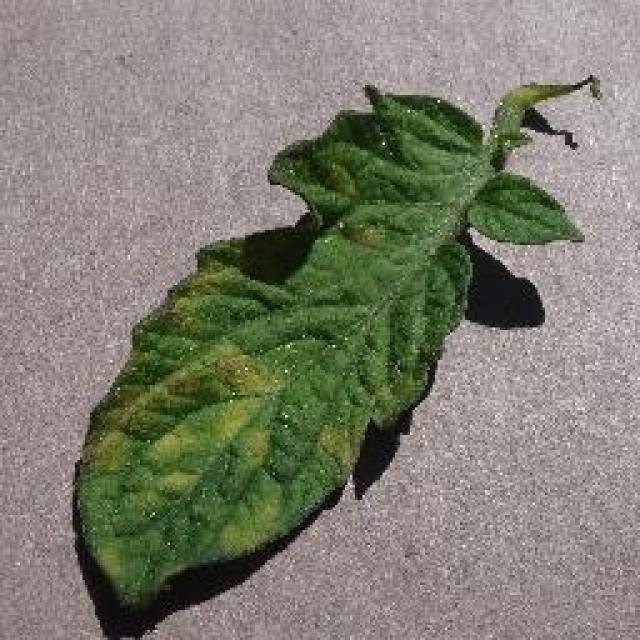Tomato___Leaf_Mold: (75, 75, 598, 608)
